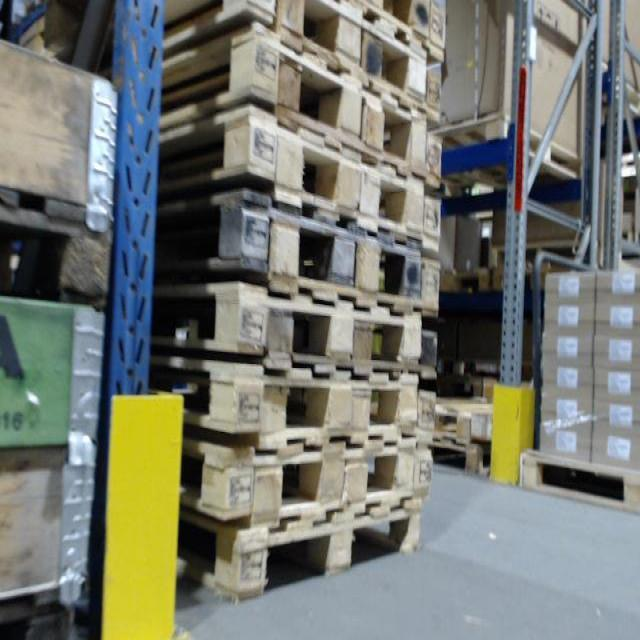pallet: (157, 30, 444, 175), (158, 109, 446, 241), (161, 192, 440, 315), (167, 2, 441, 105), (153, 285, 436, 379), (154, 352, 440, 437), (179, 508, 425, 599), (177, 436, 431, 521), (0, 182, 115, 308), (440, 106, 586, 188), (517, 451, 640, 516), (435, 435, 494, 472)
